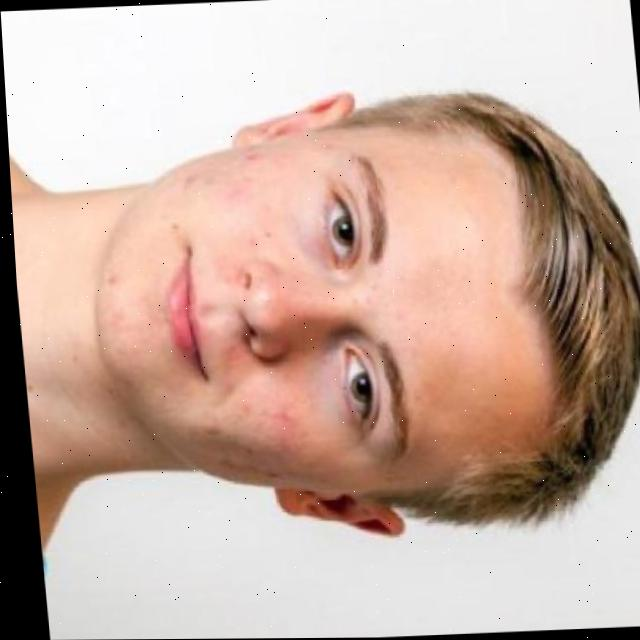Acne: (190, 394, 302, 479), (182, 144, 272, 245)
